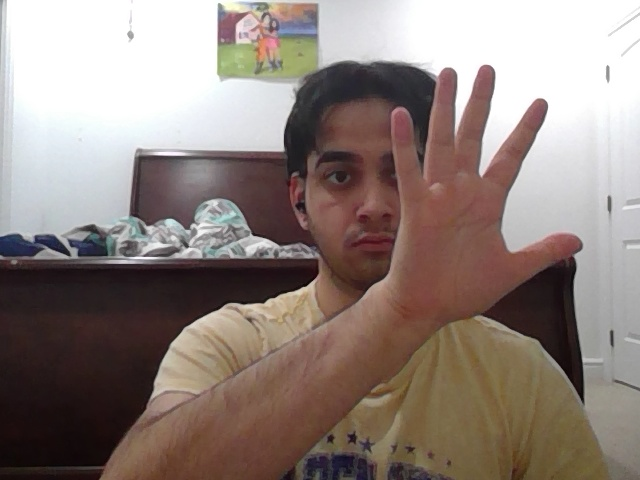hello: (390, 65, 588, 326)
